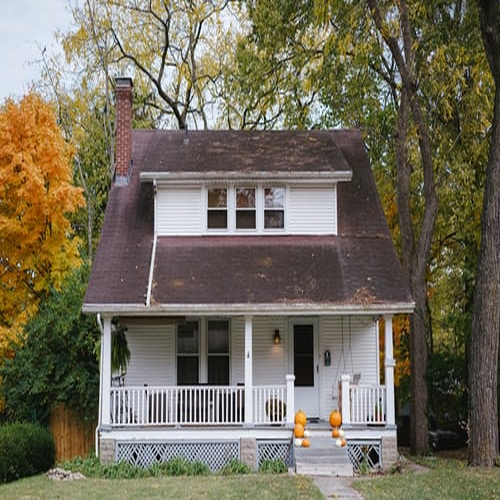Building House: (79, 74, 418, 466)
